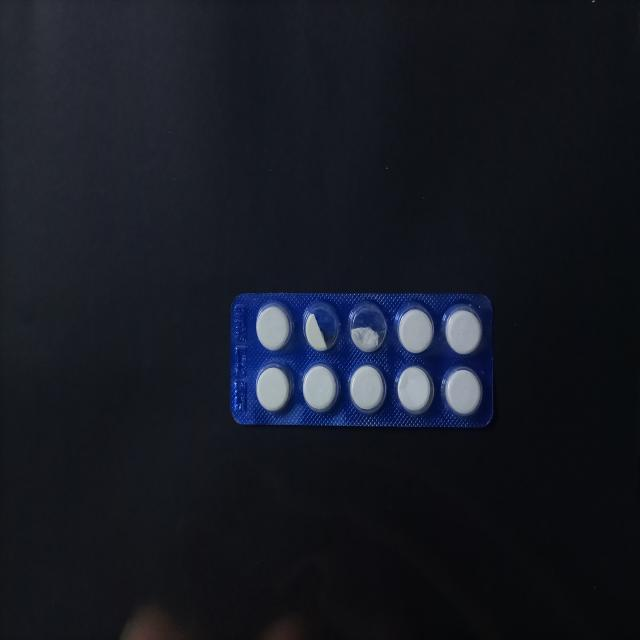defect: (346, 298, 388, 356), (300, 299, 343, 354)
